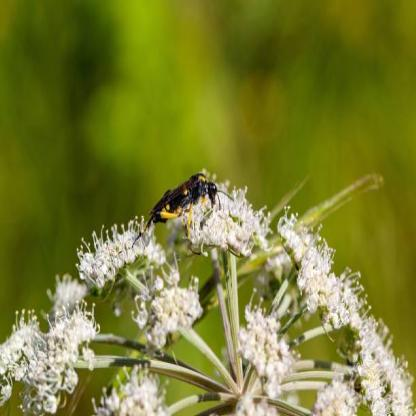sawfly: (140, 166, 230, 235)
